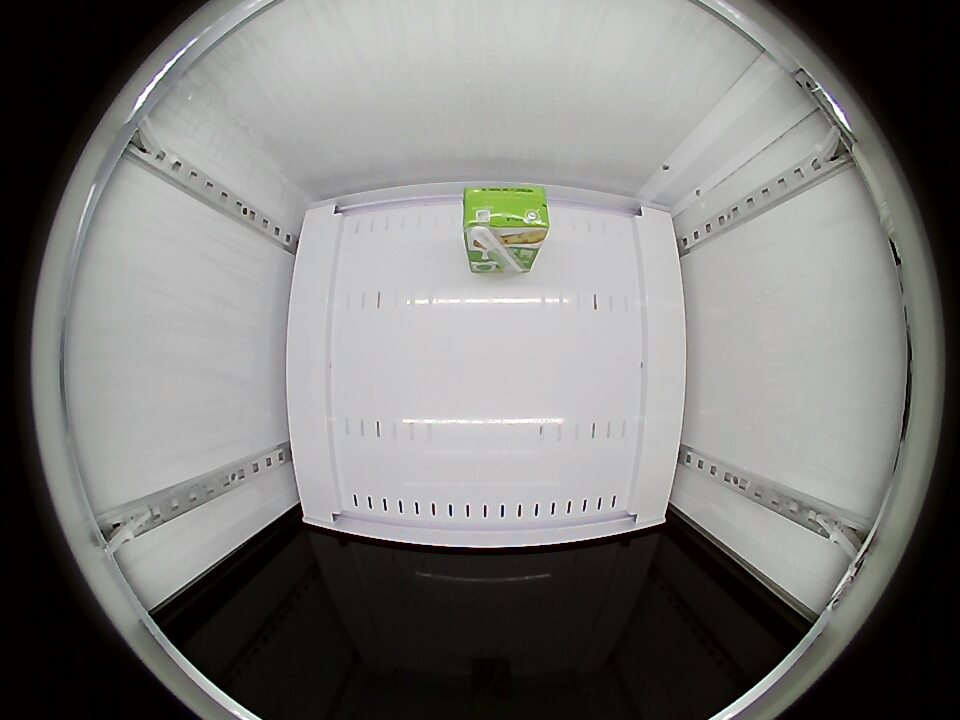mengniuzaocan: (463, 184, 551, 245)
